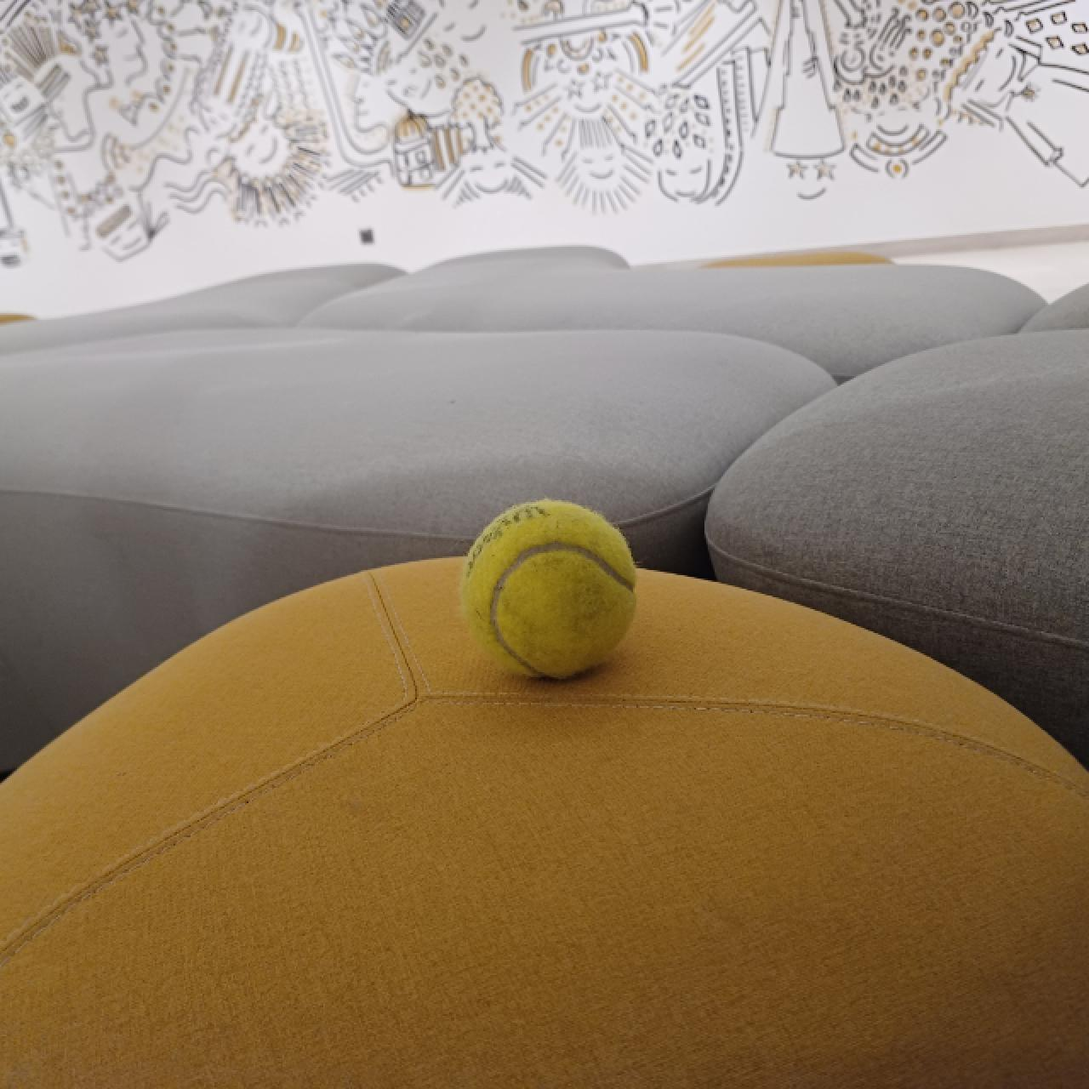tennis-ball: (460, 493, 640, 688)
